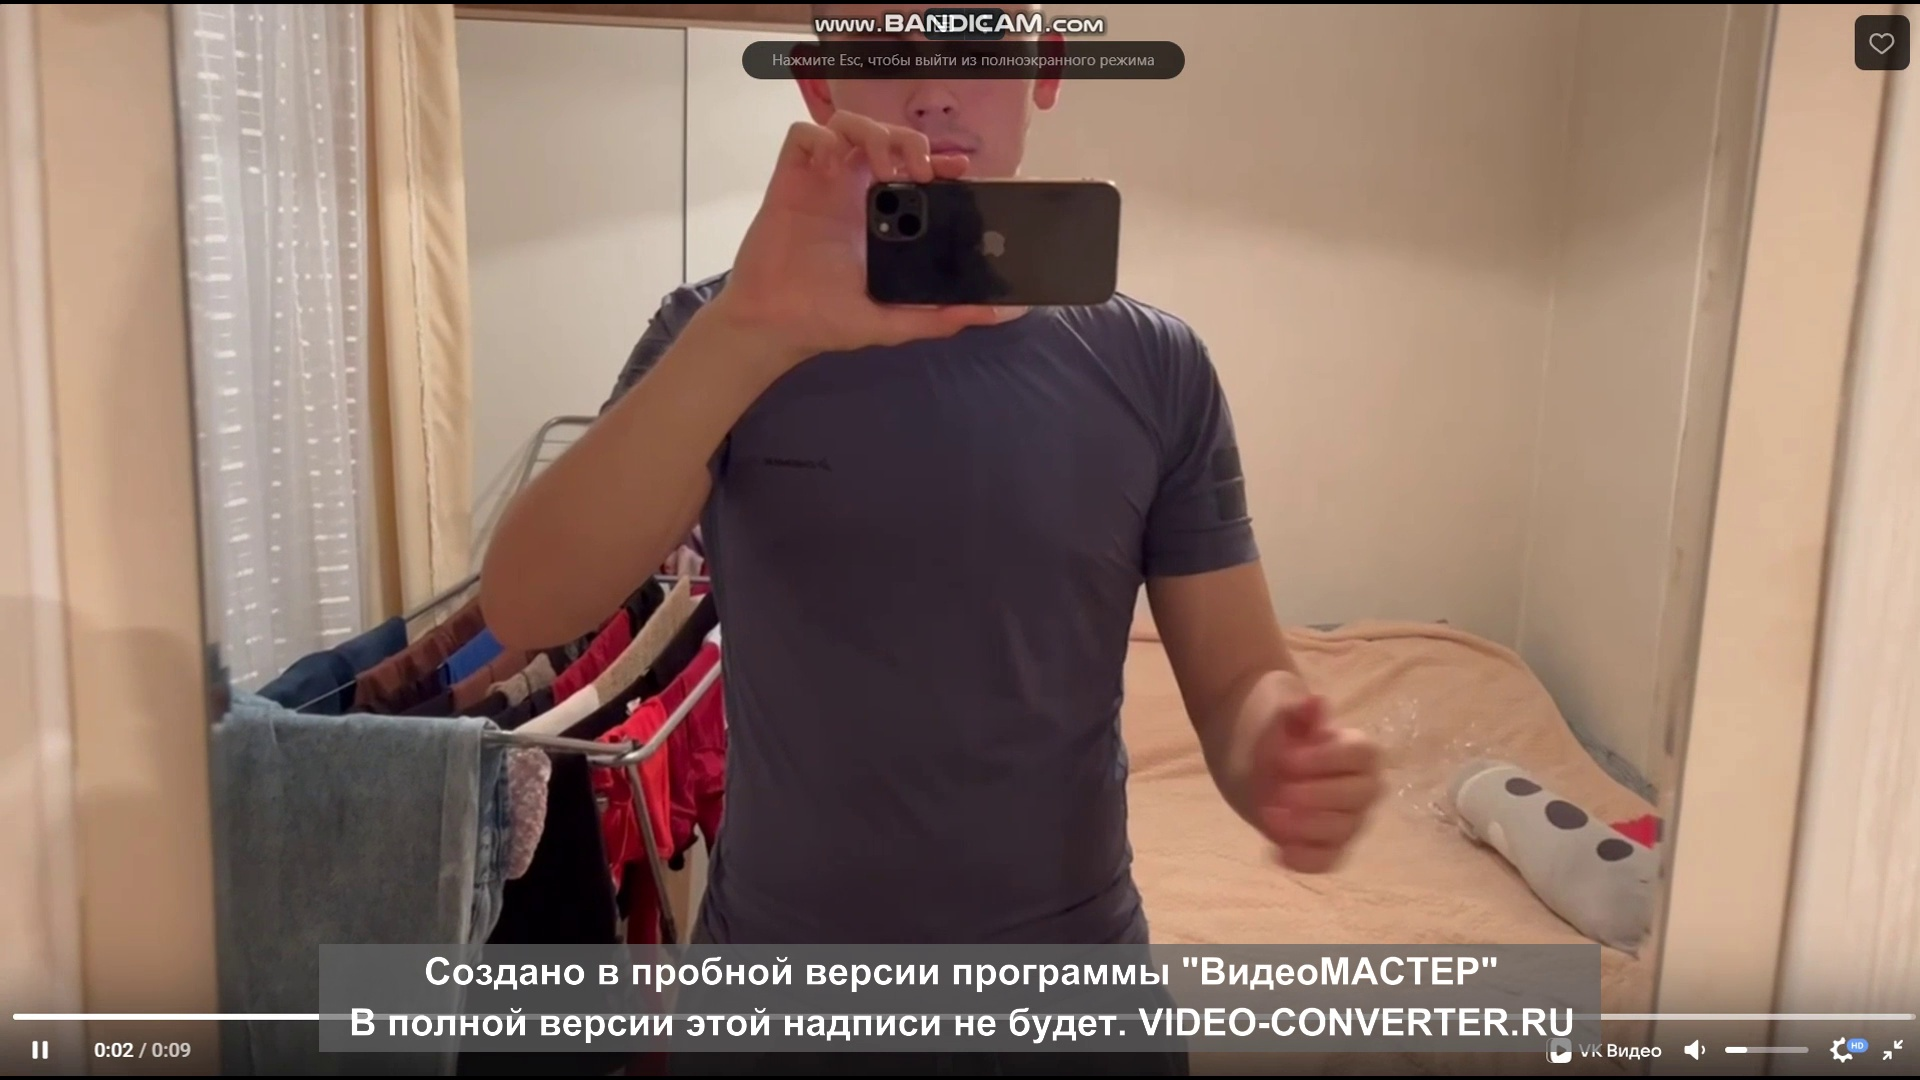Кисть: (1246, 698, 1385, 870)
